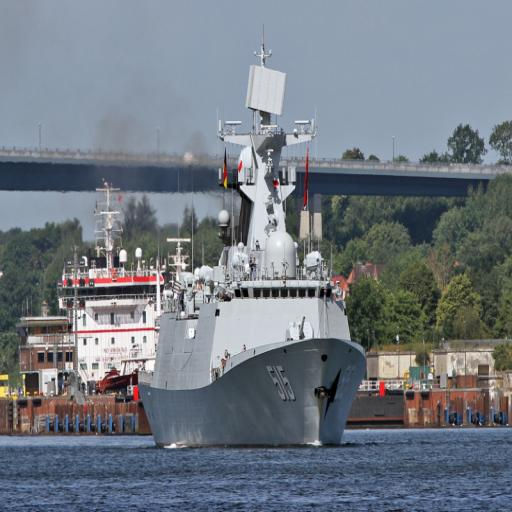Fragata: (137, 16, 372, 455)
